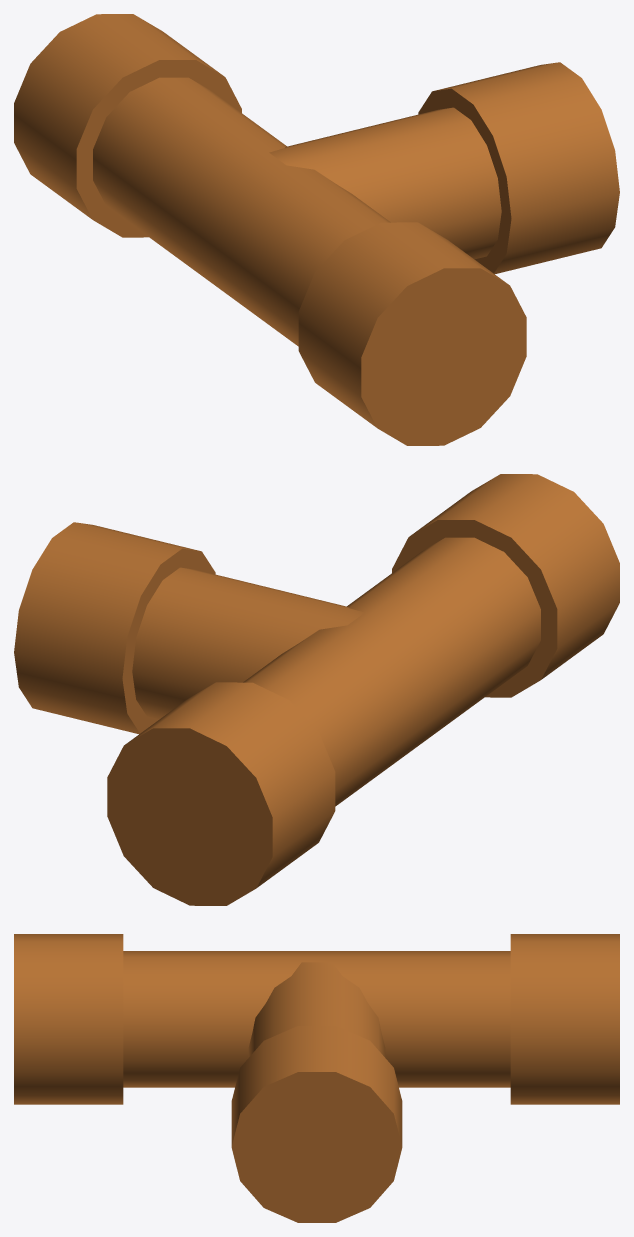
Rendered from services.pipe.tee_22.glb.
3 renders of one model, top to bottom at view 1: azimuth 30°, elevation 25°; view 2: azimuth 150°, elevation 25°; view 3: azimuth 270°, elevation 25°, orthographic. The views are drawn at different scales.
Visible parts, largest first — view 1: main__copper; view 2: main__copper; view 3: main__copper.
Boxes of the visible parts, bbox=[...] form: main__copper: bbox=[14, 14, 619, 445]; main__copper: bbox=[14, 474, 619, 905]; main__copper: bbox=[14, 934, 619, 1222].
Size of the model in its own units: 0.0622 by 0.0275 by 0.0976.
